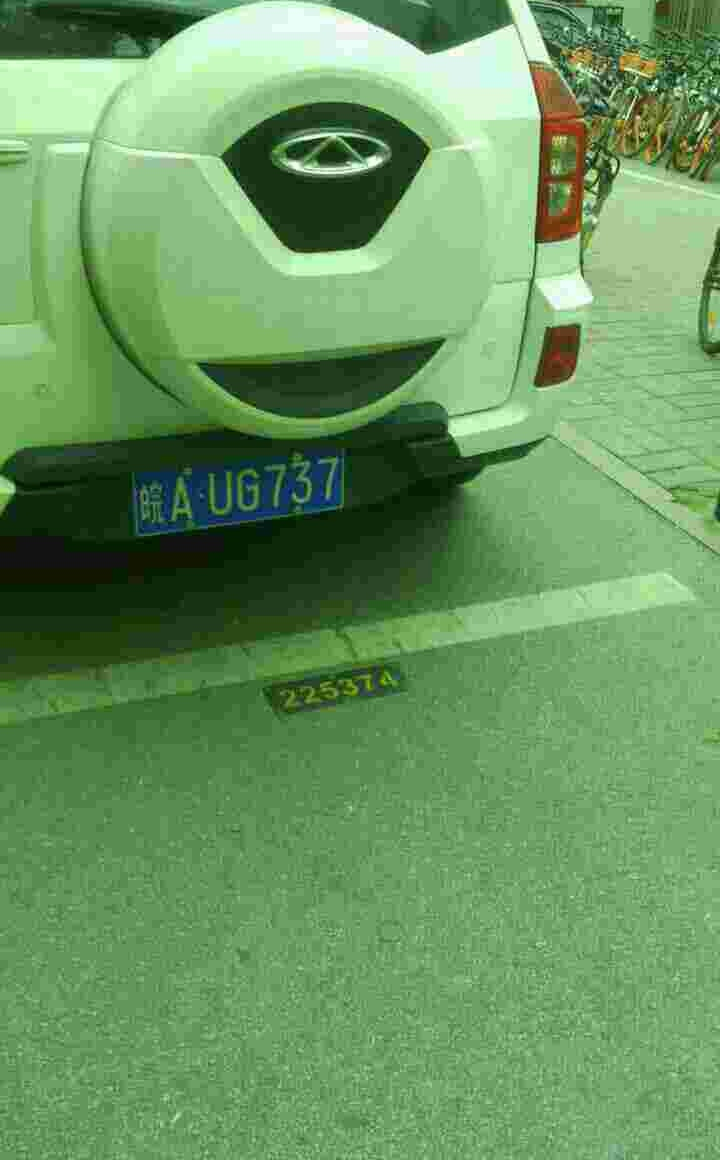license_plate: (134, 445, 346, 542)
